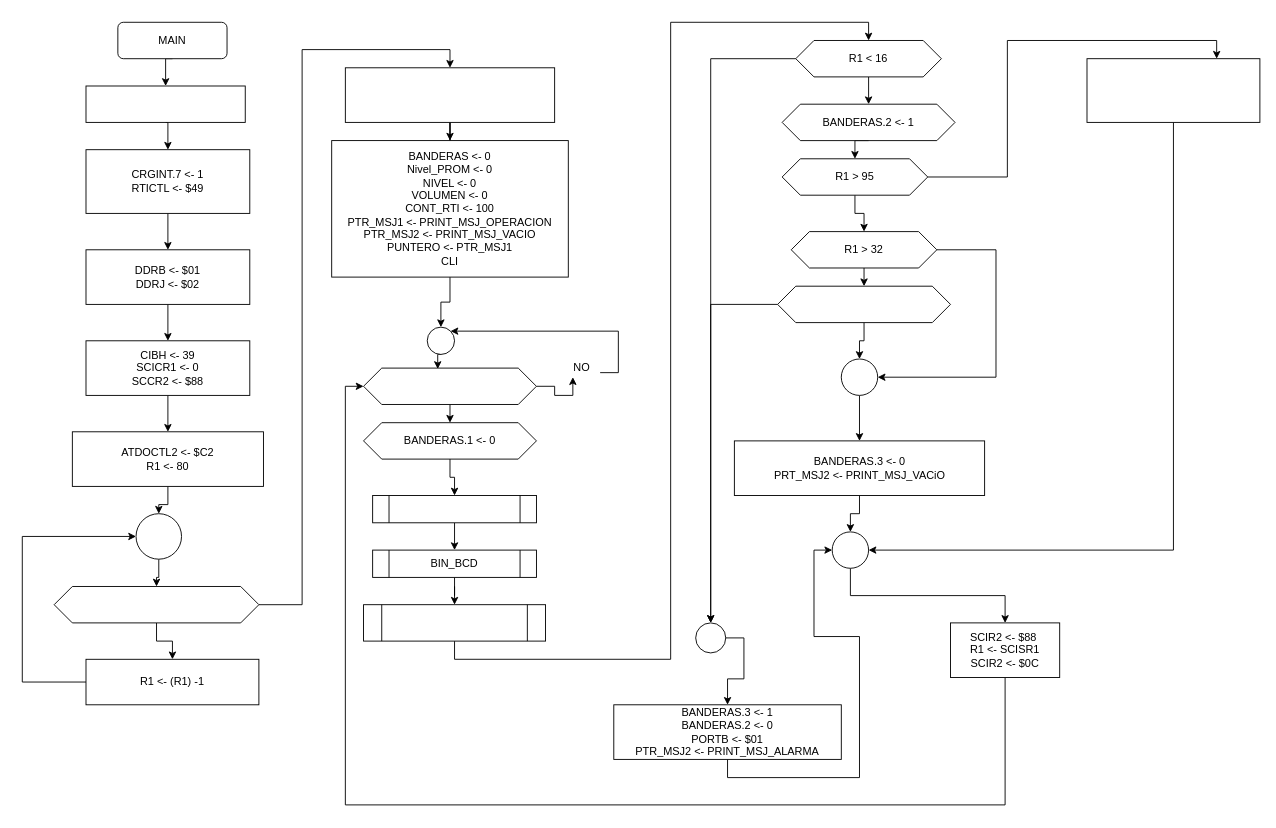
The diagram is 1276 pixels wide and 828 high, and some of its shapes have lost their labels. Here are the shapes that lost their labels. From the top down, the centre of each, then its label:
[165,103]: SP <- $4000
[449,94]: ATDOCTL3 <- 0 ATDOCTL4 <- 10 ATDOCTL5 <- 80
[1173,90]: BANDERAS.2 <- 1 PORTB <- $01 PRT_MSJ2 <- PRINT_MSJ_VACIANDO
[863,304]: BANDERAS.3 <- 1
[449,385]: BANDERAS.1 <- 1
[454,509]: CALCULO
[156,604]: R1 = 0
[454,622]: BCD_ASCII
